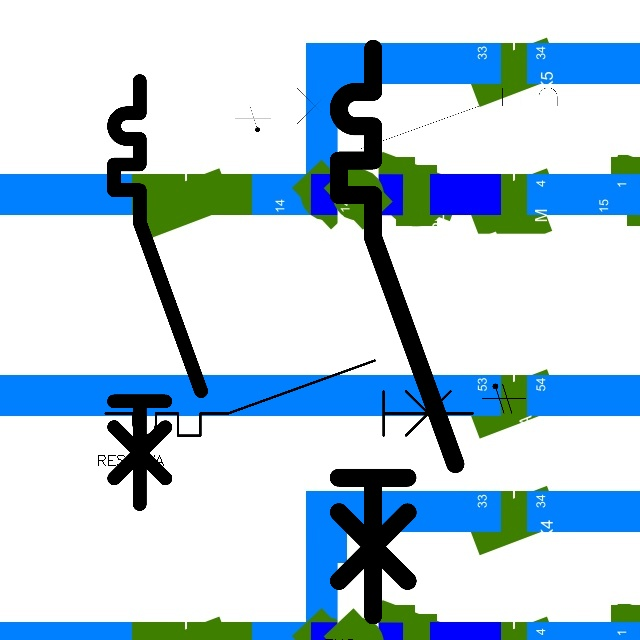interruptor_termomagnetico: (324, 34, 470, 630), (103, 70, 212, 515), (96, 351, 482, 445), (270, 80, 587, 157)
